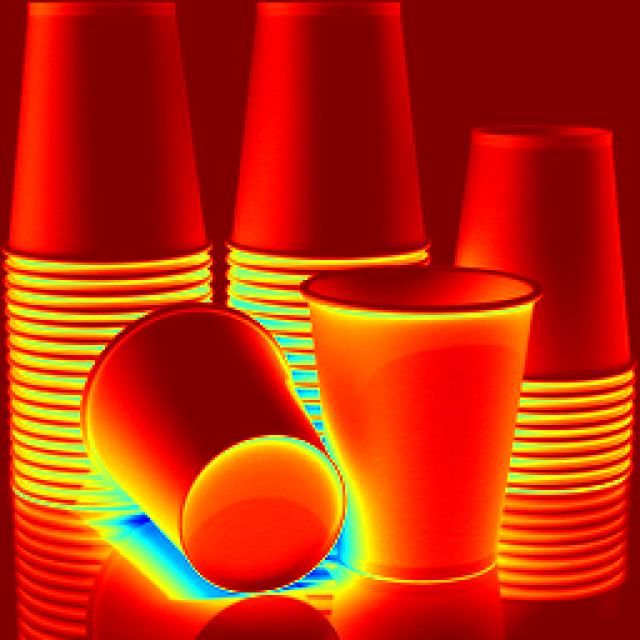Paper Cups: (0, 0, 209, 517), (465, 118, 640, 590), (56, 318, 329, 608), (285, 266, 537, 578), (224, 0, 437, 285)
